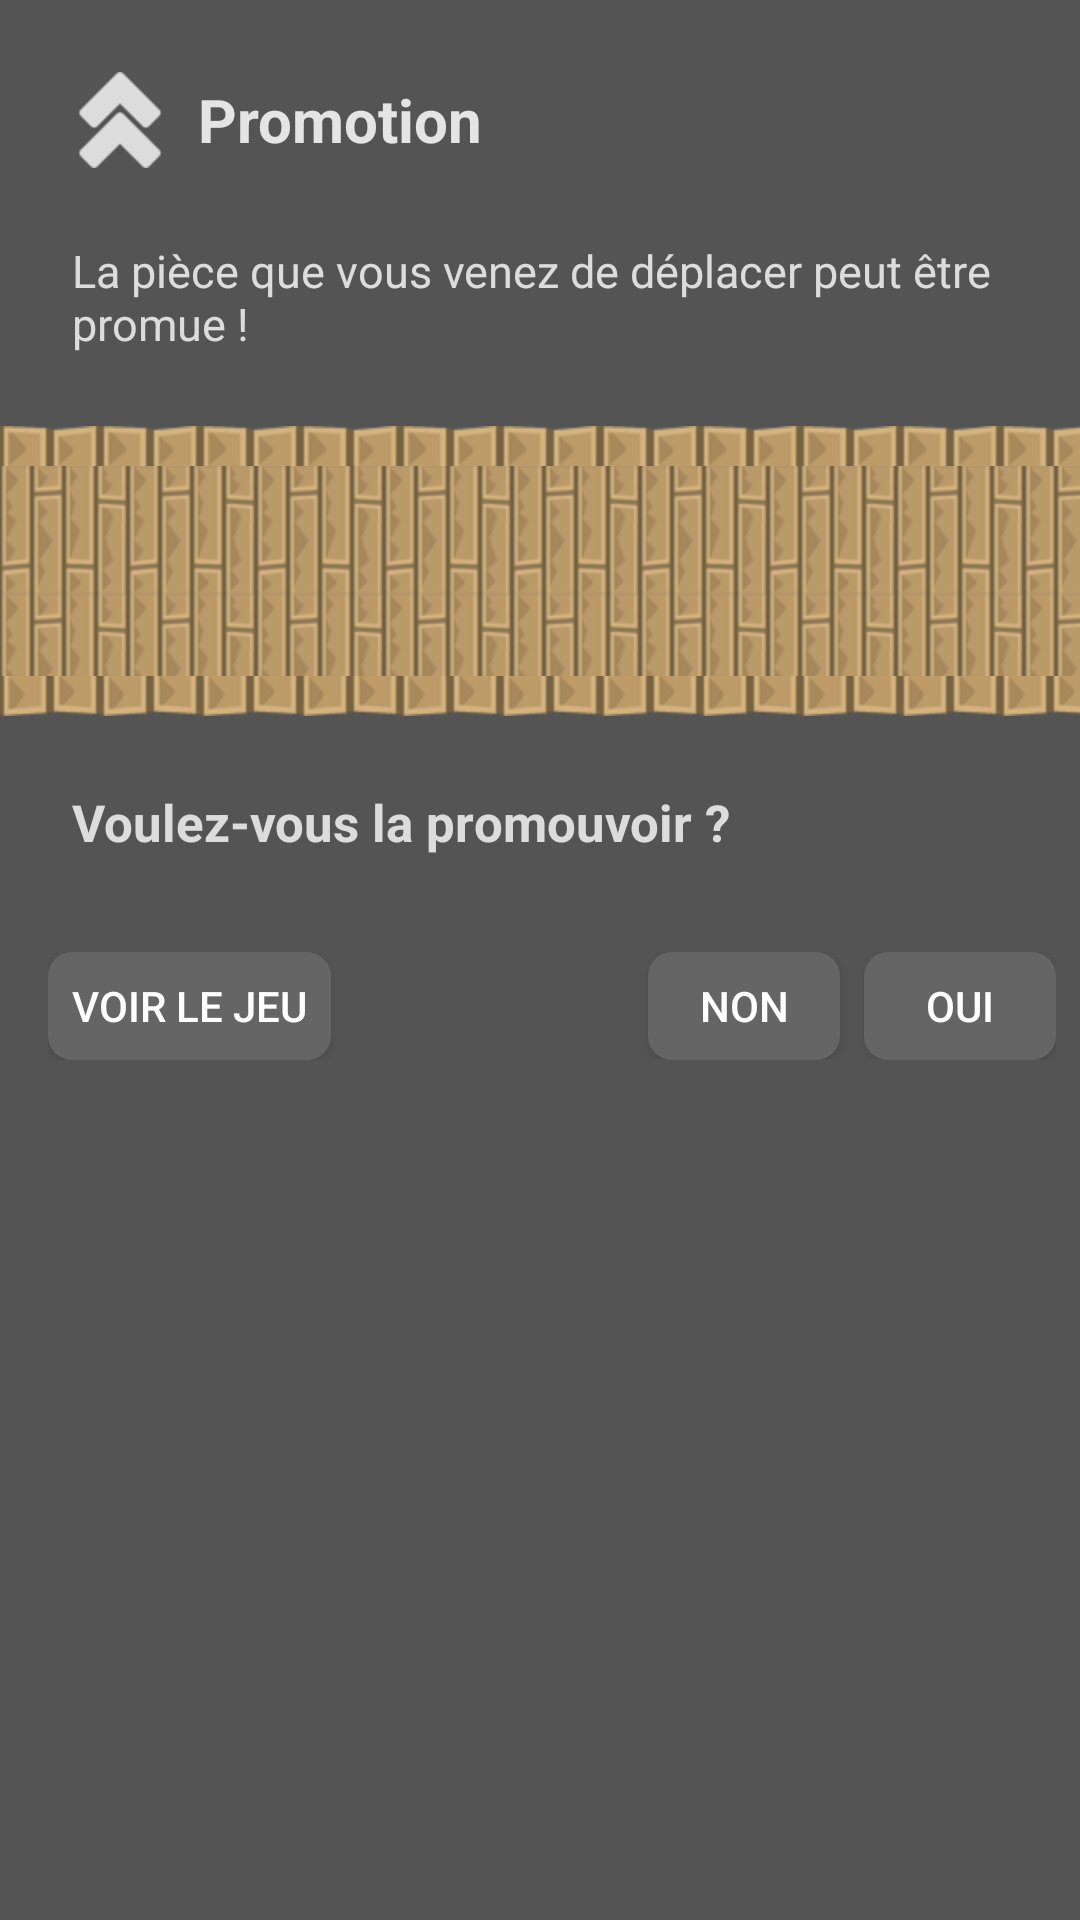

Icon click points for this 1080*1920 phone screenshot, format point (x, y):
level up: point (120, 120)
